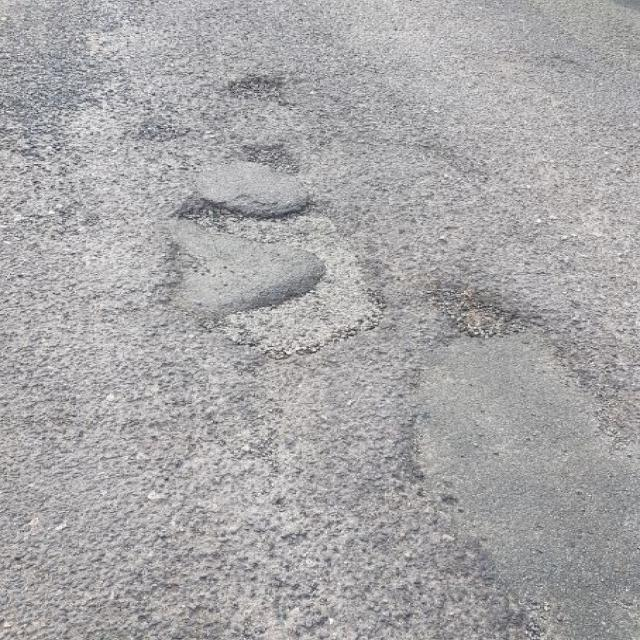Pothole: (153, 186, 397, 356)
